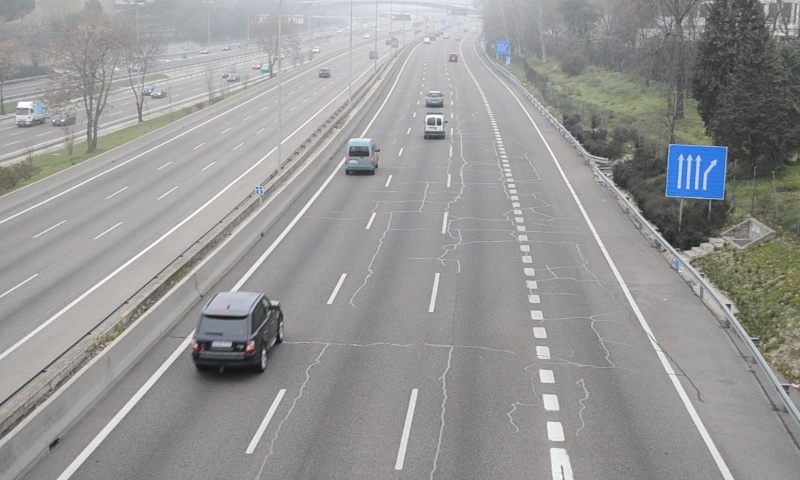car: (190, 292, 284, 366), (423, 90, 444, 108)
van: (345, 138, 378, 172), (423, 112, 444, 138)
